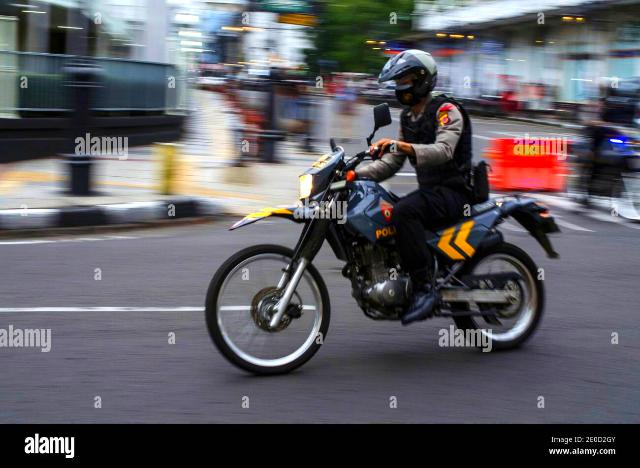helm: (378, 50, 441, 107)
motor: (202, 102, 563, 375)
